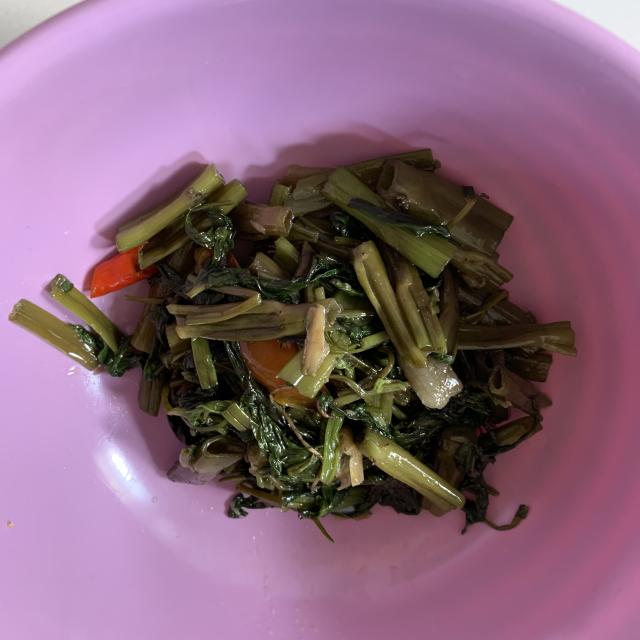Wet Waste: (11, 138, 572, 530)
